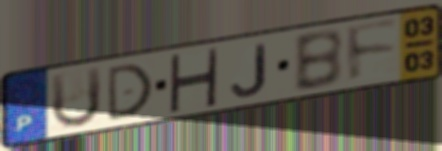B: (291, 27, 345, 95)
D: (105, 61, 156, 124)
F: (344, 17, 402, 86)
H: (166, 47, 221, 113)
J: (229, 42, 270, 99)
U: (48, 63, 104, 131)
